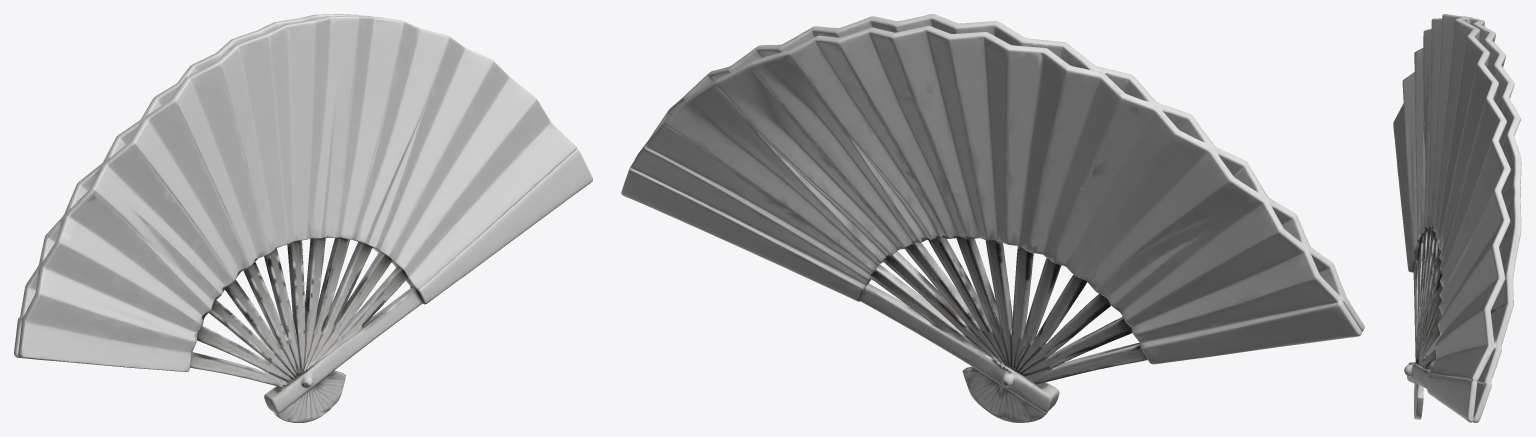
3 views of the same model, side by side, from view 1: azimuth 30°, elevation 25°; view 2: azimuth 150°, elevation 25°; view 3: azimuth 270°, elevation 25° (orthographic). The views are drawn at different scales.
Parts seen in each view (by area): view 1: node_0; view 2: node_0; view 3: node_0.
Boxes of the visible parts, box(x1,y1,x2,y2) form: node_0: box(14, 14, 592, 422); node_0: box(621, 14, 1364, 422); node_0: box(1393, 14, 1521, 422).
Size of the model in its own units: 1.18 by 0.6835 by 0.2135.
Materials: 1 (1 with a texture image).
